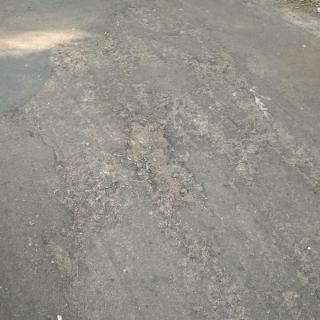pothole: (125, 120, 199, 214)
